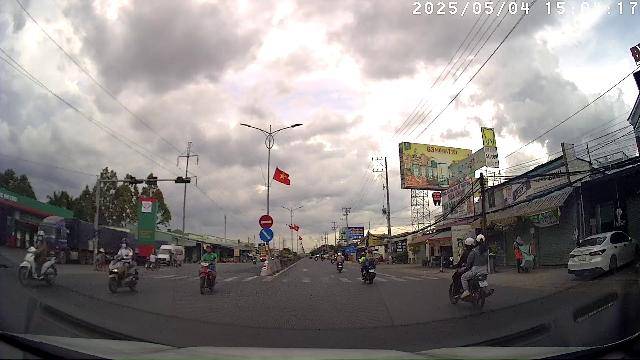102-cam-di-nguoc-chieu: (259, 214, 273, 228)
302a-huong-phai-di-vong-chuong-ngai-vat-1: (259, 228, 273, 242)
